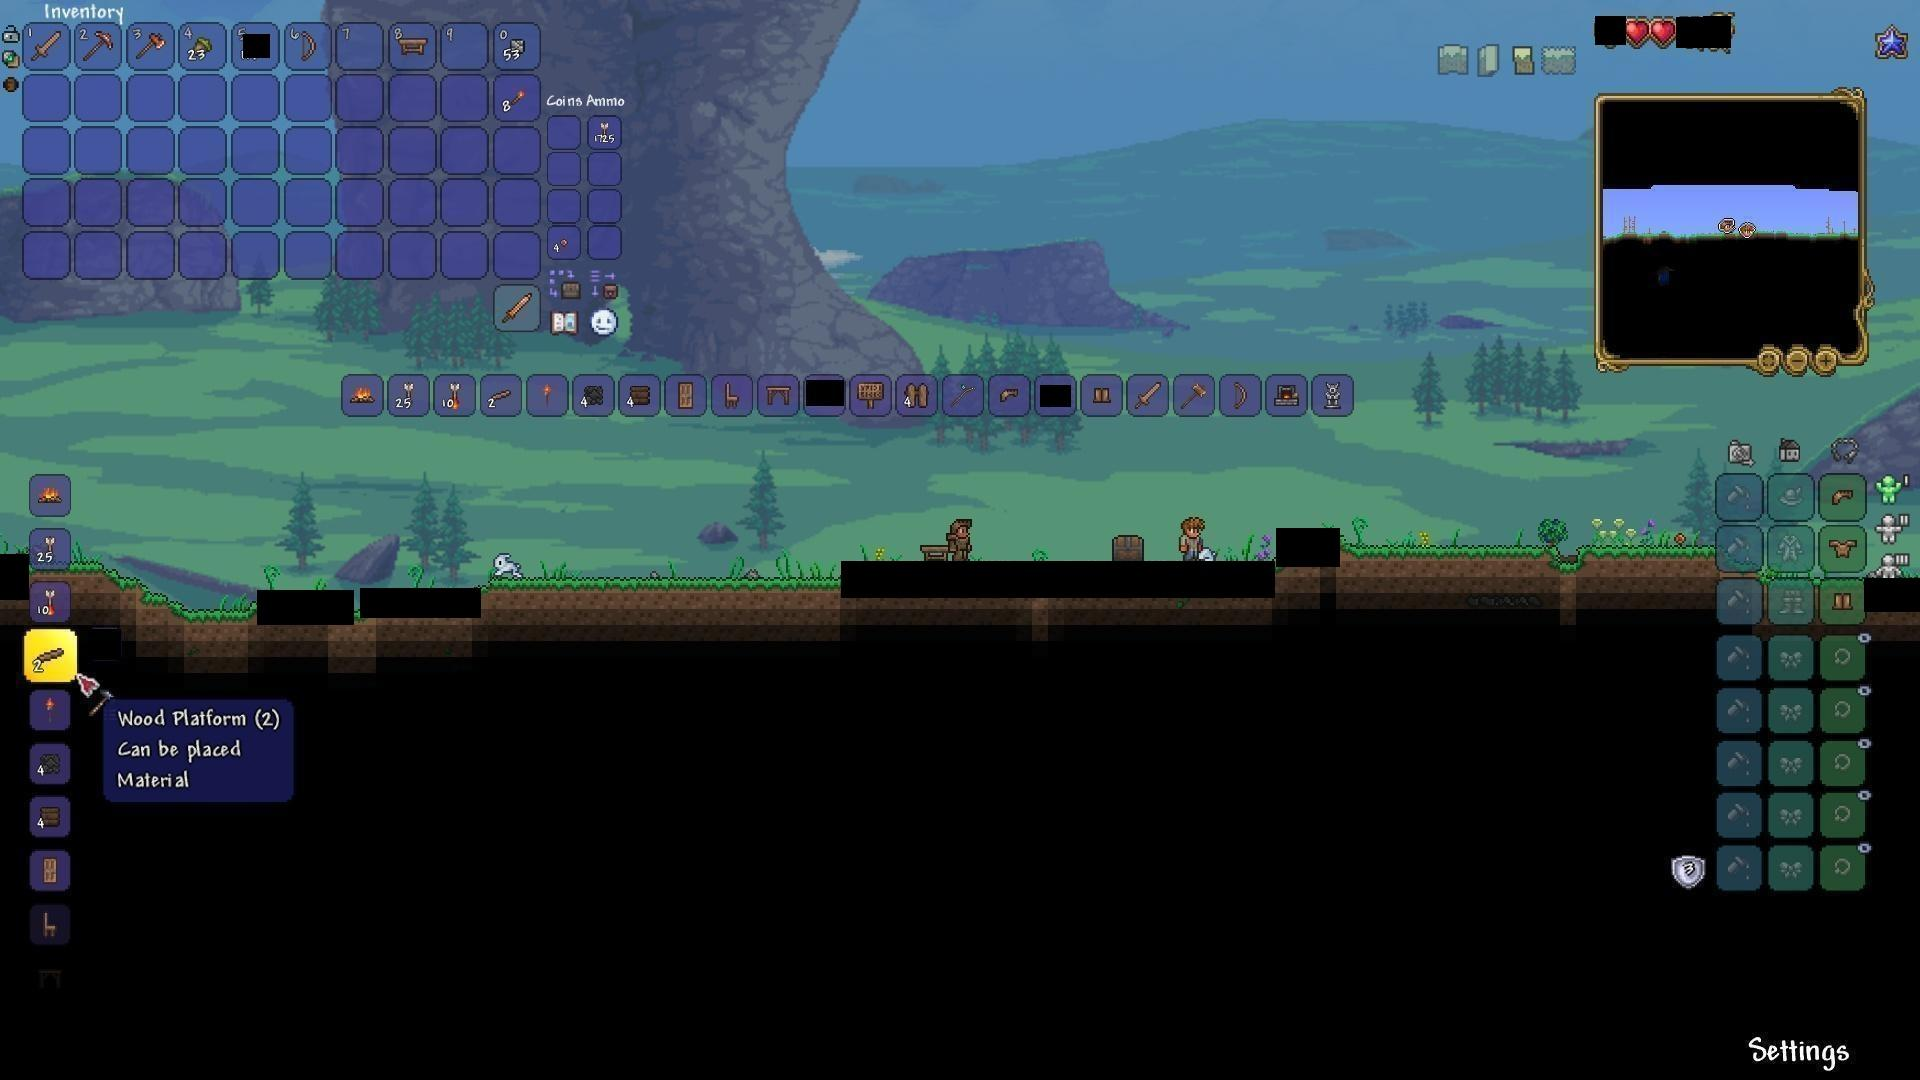breastplate: (1829, 537, 1859, 559)
dirt: (1338, 539, 1727, 574), (484, 572, 843, 607), (76, 560, 164, 618), (166, 599, 260, 622)
heart: (1648, 17, 1676, 47), (1625, 17, 1651, 46)
helmet: (1826, 481, 1859, 512), (994, 382, 1025, 410)
legs: (1091, 381, 1116, 409), (1832, 589, 1855, 617)
workbench: (394, 36, 431, 61), (918, 541, 955, 564)
